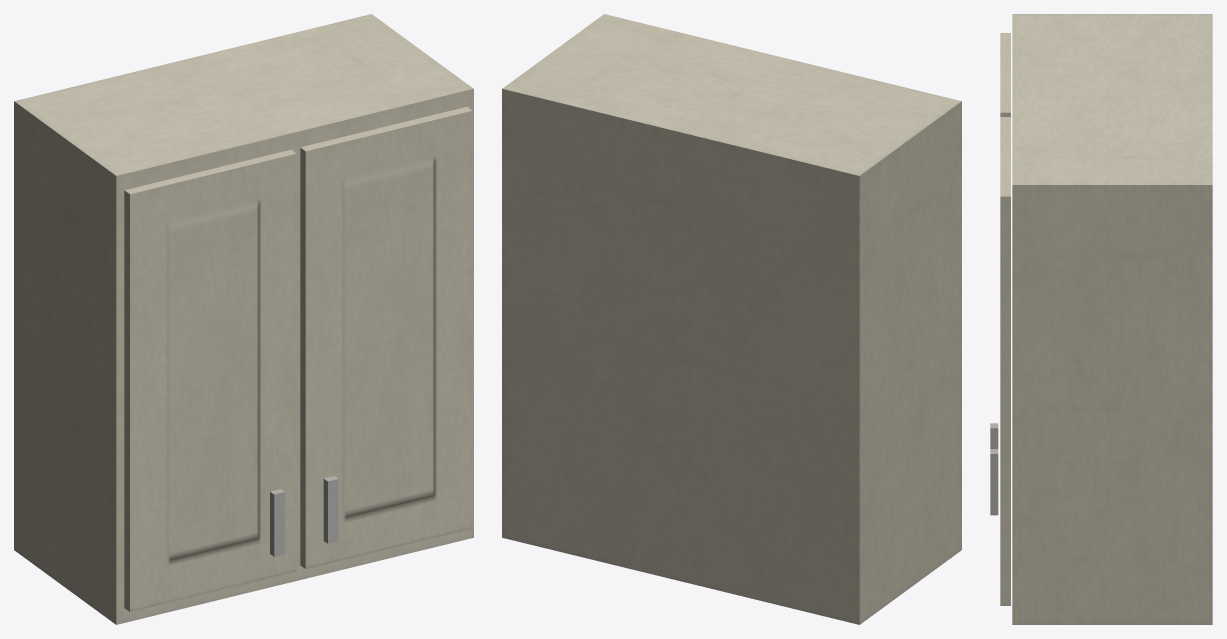
The model's file is cabinet_wall.glb.
The picture shows the model from 3 angles, left to right: view 1: azimuth 30°, elevation 25°; view 2: azimuth 150°, elevation 25°; view 3: azimuth 270°, elevation 25°; orthographic projection. The views are drawn at different scales.
Visible parts, largest first — view 1: home_cabinet_wall; view 2: home_cabinet_wall; view 3: home_cabinet_wall.
Part boxes in pixels (x1,y1,x2,y2): home_cabinet_wall: (14,14,473,624); home_cabinet_wall: (502,14,961,624); home_cabinet_wall: (990,14,1212,624).
Bounding box in the file's own units: 0.6 × 0.72 × 0.33.
Materials: 1 (1 with a texture image).
